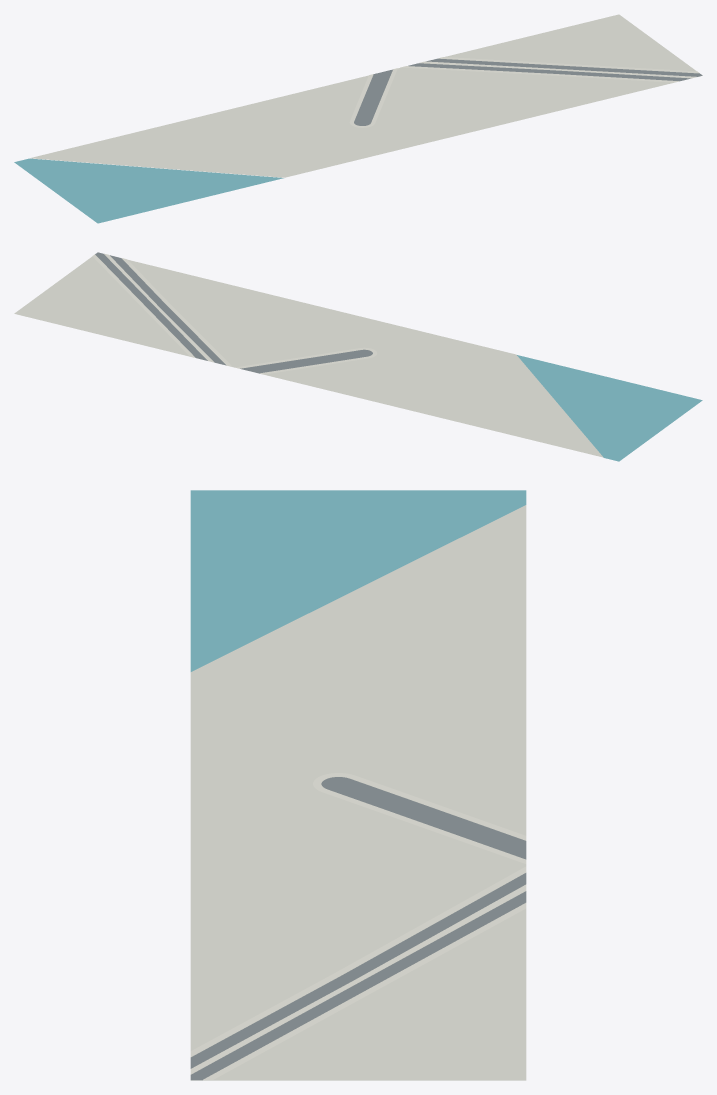
The picture shows the model from 3 angles, top to bottom: view 1: azimuth 30°, elevation 25°; view 2: azimuth 150°, elevation 25°; view 3: azimuth 270°, elevation 25°; orthographic projection. The views are drawn at different scales.
Parts seen in each view (by area): view 1: city; view 2: city; view 3: city.
Boxes of the visible parts, x1,y1,x2,y2 form: city: [14, 14, 702, 223]; city: [14, 252, 702, 461]; city: [190, 490, 526, 1080].
Size of the model in its own units: 500 by 0.4 by 120.
